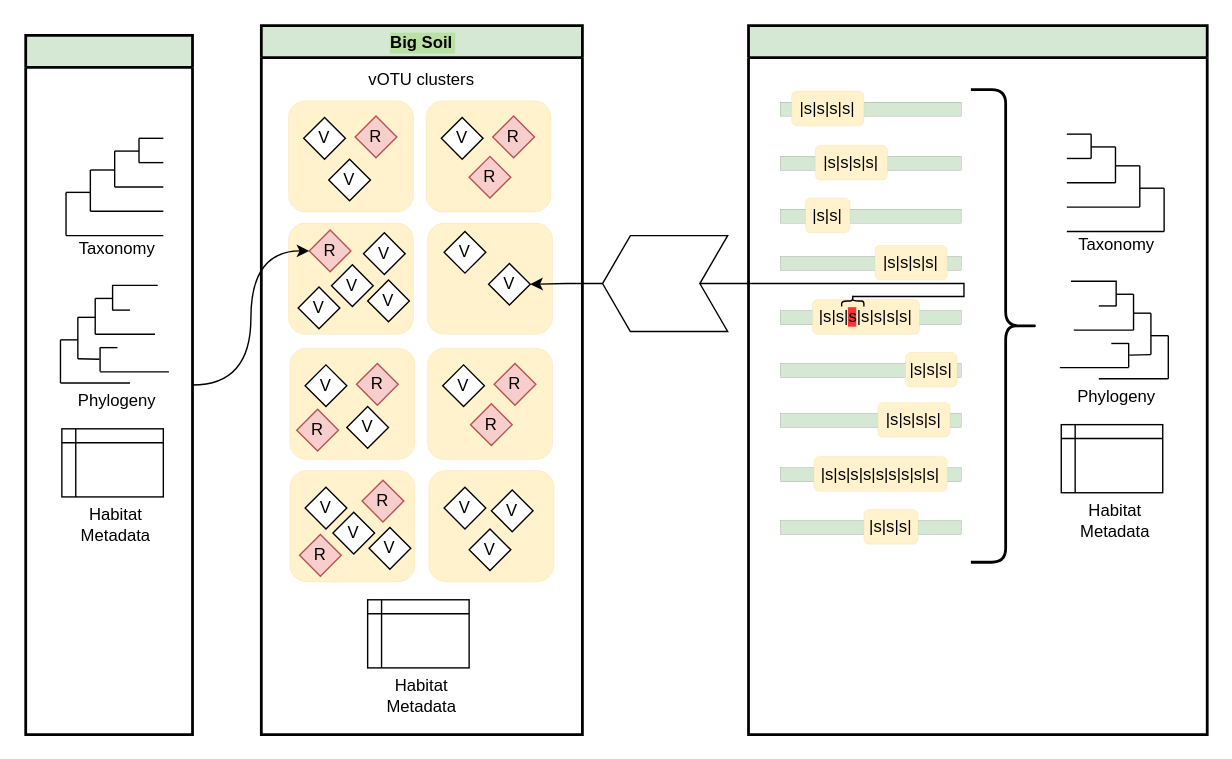
This 1232x759 diagram has some shape labels left out. Each missing label, with the centre of its shape:
"blastn" belongs at point (664, 283).
"GTDB" belongs at point (977, 379).
"INPHARED" belongs at point (108, 384).
